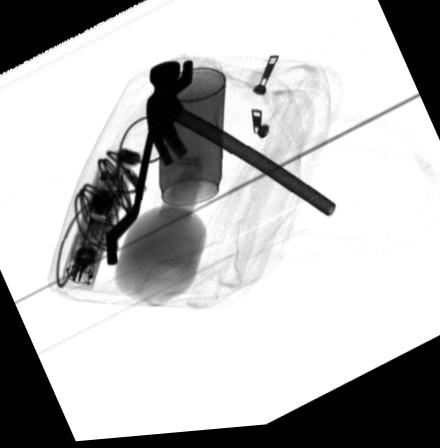Hammer: (146, 63, 338, 223)
Wrench: (104, 62, 195, 267)
